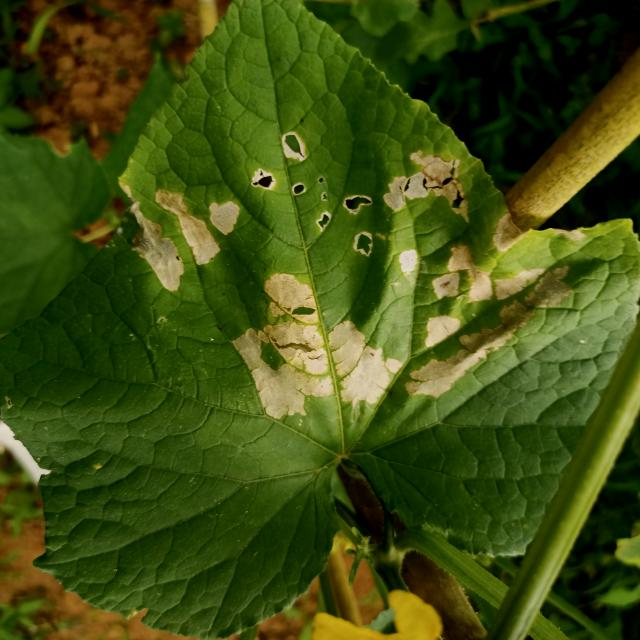disease_cucumber: (119, 132, 573, 420)
